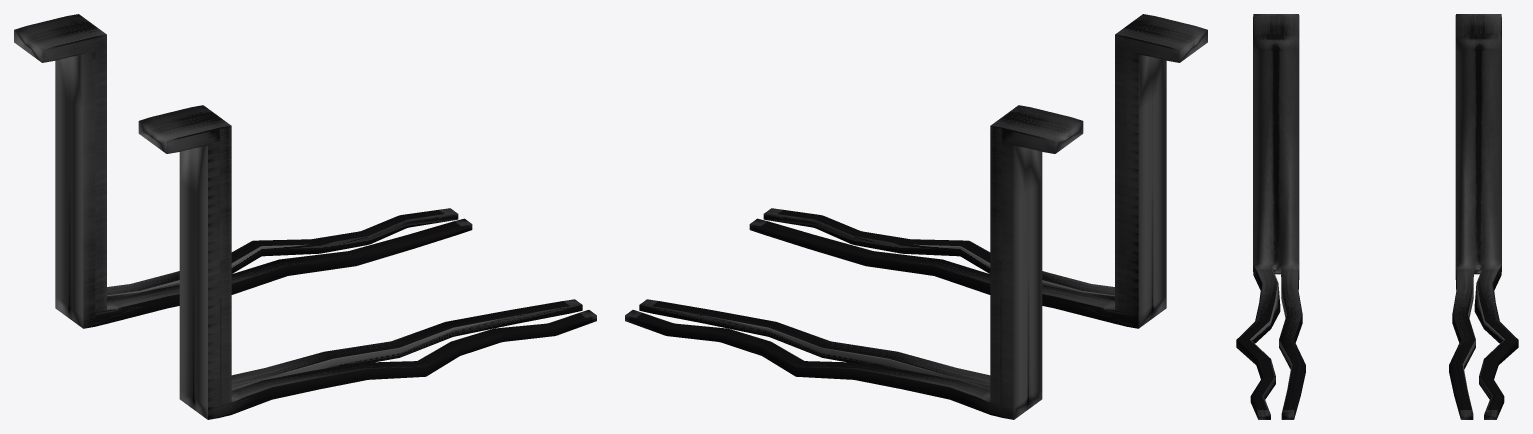
Rendered from vilka_slomana.fbx.
3 views of the same model, side by side, from view 1: azimuth 30°, elevation 25°; view 2: azimuth 150°, elevation 25°; view 3: azimuth 270°, elevation 25° (orthographic). The views are drawn at different scales.
Visible parts, largest first — view 1: Cube.006; view 2: Cube.006; view 3: Cube.006.
Boxes of the visible parts, box(x1,y1,x2,y2) form: Cube.006: box(14, 14, 596, 419); Cube.006: box(625, 14, 1207, 419); Cube.006: box(1236, 14, 1518, 419).
Bounding box in the file's own units: 47.63 × 30.48 × 33.06.
